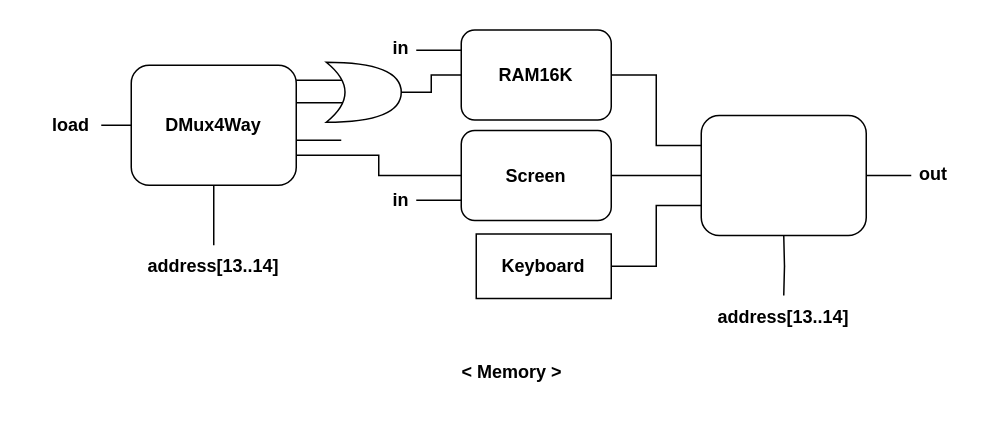
Some shapes in this 1004 by 422 pixel diagram are drawn without their labels. Each missing label, with the box of its shape:
Mux4Way16: (700, 114, 866, 236)
Or: (325, 61, 401, 122)
